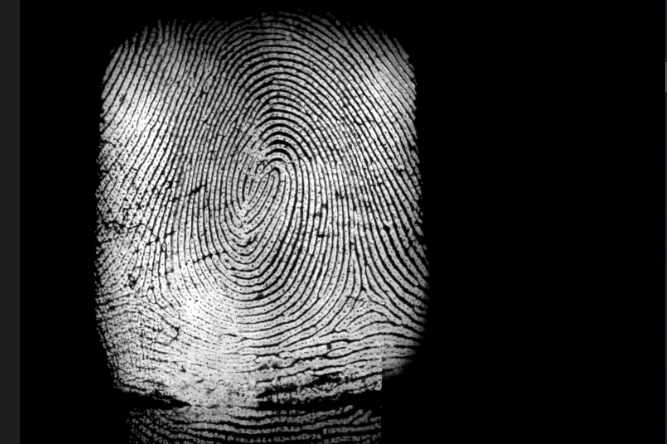nucelo: (253, 160, 291, 207)
verticilo: (127, 277, 171, 315), (345, 281, 384, 315)
